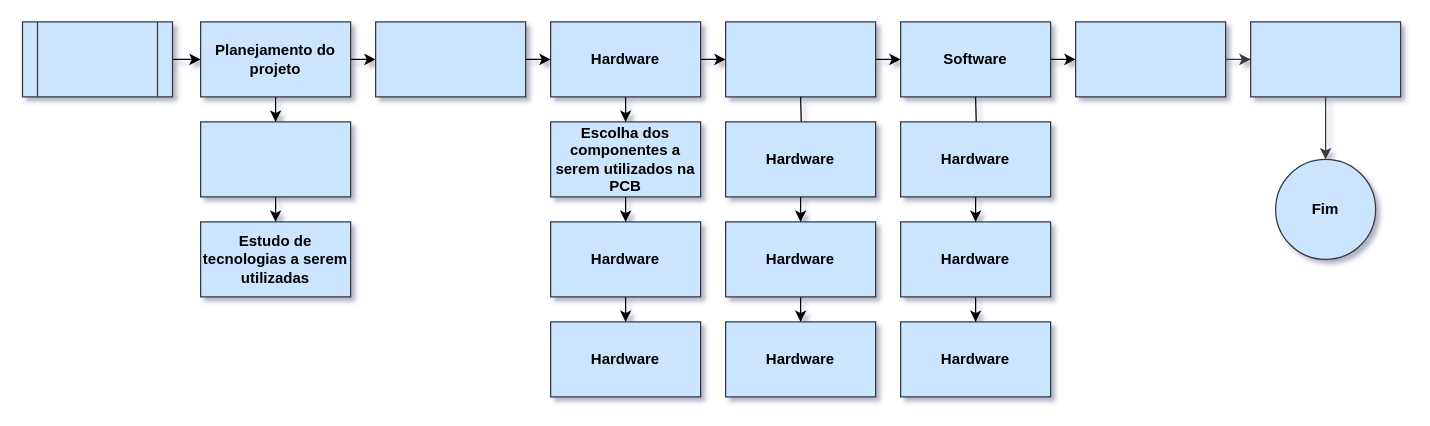
Some shapes in this 1430 by 426 pixel diagram are drawn without their labels. Each missing label, with the centre of its shape:
"Aquisição de material para desenvolvimento" goes at (450,59).
"Definição dos requisitos" goes at (275,159).
"Firmware" goes at (800,59).
"Integração" goes at (1150,59).
"Início" goes at (96,59).
"Testes" goes at (1325,59).
